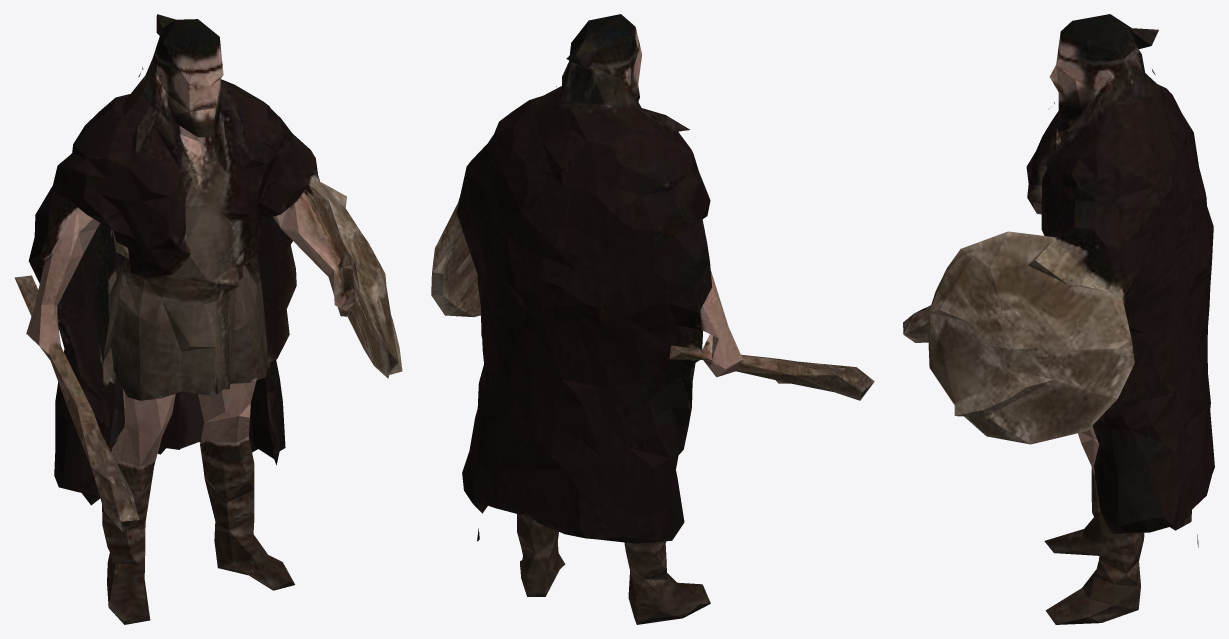
The model's file is realistic-cc0.f77cec64a90b.warrior.glb.
The picture shows the model from 3 angles, left to right: view 1: azimuth 30°, elevation 25°; view 2: azimuth 150°, elevation 25°; view 3: azimuth 270°, elevation 25°; orthographic projection. The views are drawn at different scales.
Visible parts, largest first — view 1: warrior; view 2: warrior; view 3: warrior.
Part boxes in pixels (x1,y1,x2,y2): warrior: (14,14,402,624); warrior: (431,14,874,624); warrior: (903,14,1214,624).
Bounding box in the file's own units: 1.11 × 1.8 × 0.8985.
1 material, 1 textured.
